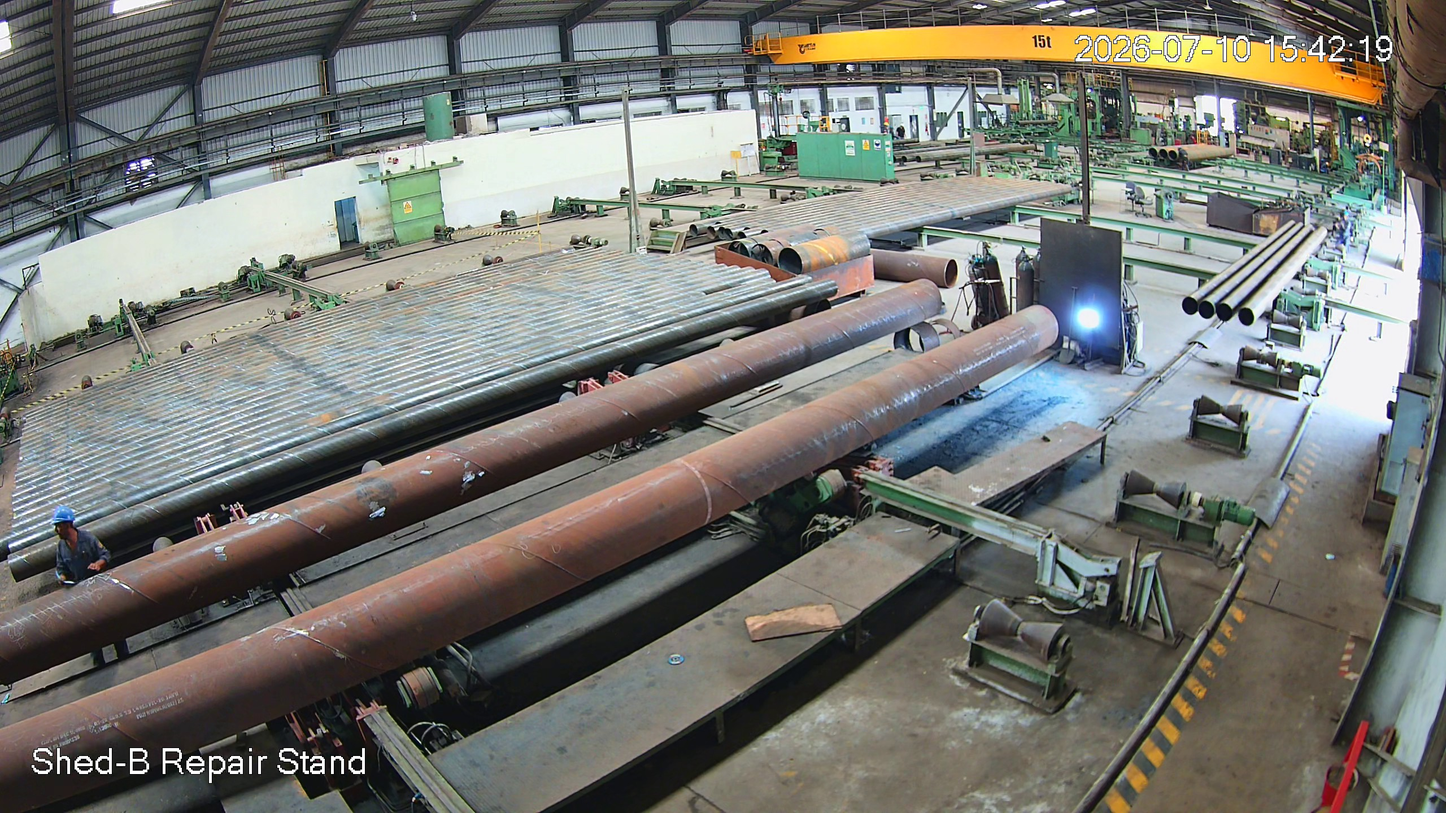Helmet: (48, 505, 104, 565)
Person: (41, 514, 137, 664)
